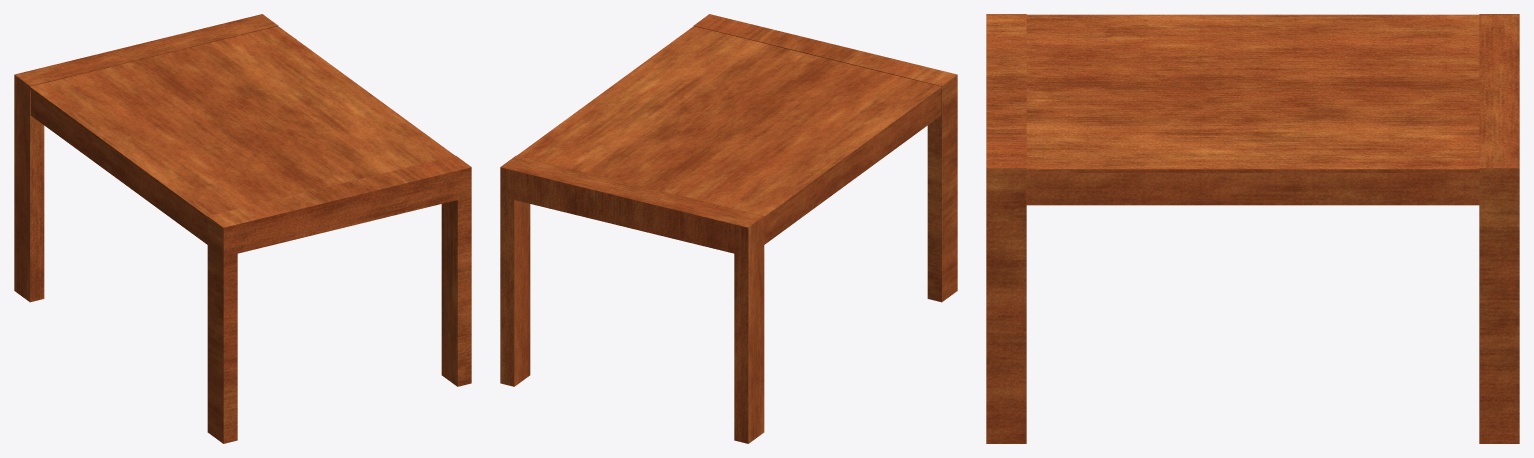
File: mesa.glb
The picture shows the model from 3 angles, left to right: view 1: azimuth 30°, elevation 25°; view 2: azimuth 150°, elevation 25°; view 3: azimuth 270°, elevation 25°; orthographic projection. The views are drawn at different scales.
Visible parts, largest first — view 1: Box001; view 2: Box001; view 3: Box001.
Part boxes in pixels (<box>): Box001: <box>14,14,471,443</box>; Box001: <box>500,14,957,443</box>; Box001: <box>986,14,1519,443</box>.
Bounding box in the file's own units: 0.9784 × 0.8139 × 1.43.
Materials: 1 (1 with a texture image).
